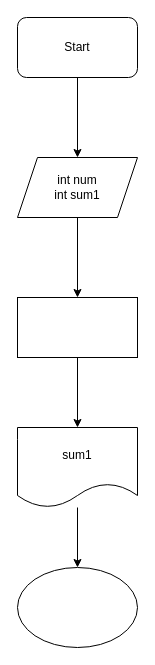
This 155x665 diagram has some shape labels left out. Each missing label, with the centre of its shape:
"END" goes at [77,607].
"sum1 = num % 10 + num / 10 % 10 + num / 100" goes at [77,327].
